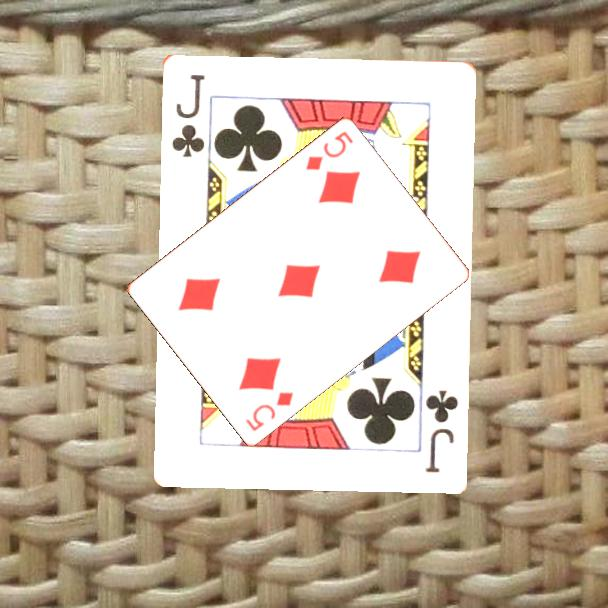c11: (167, 71, 207, 160), (421, 386, 461, 475)
d05: (302, 127, 356, 173), (242, 388, 296, 434)
